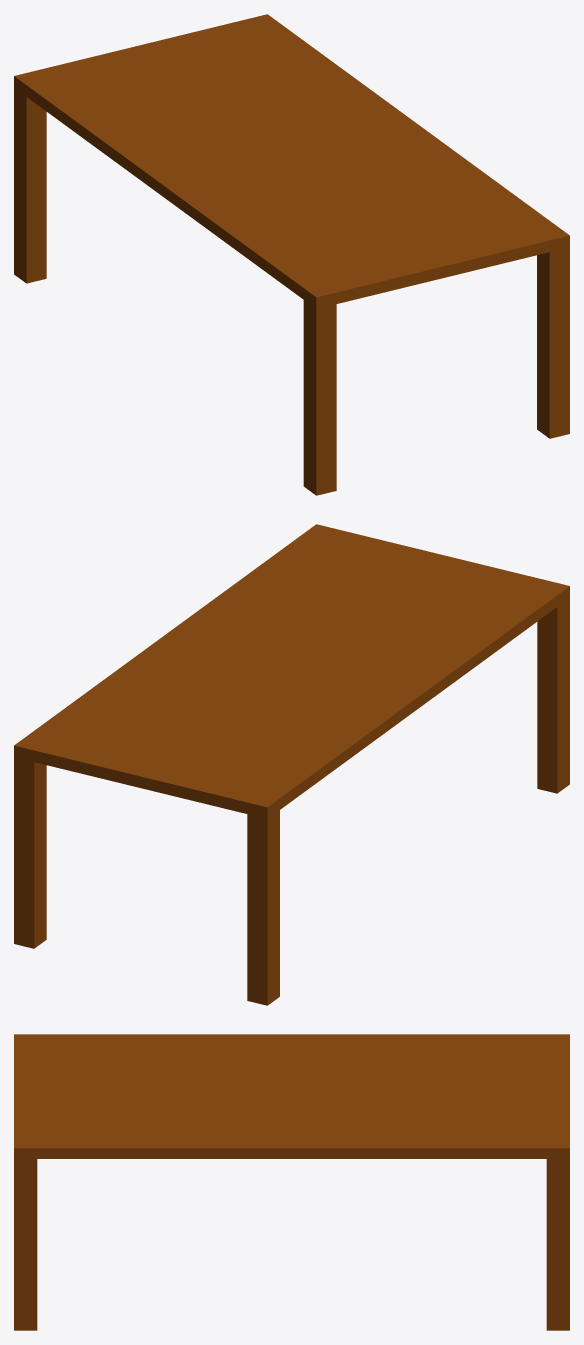
Rendered from Mesa.fbx.
The picture shows the model from 3 angles, top to bottom: view 1: azimuth 30°, elevation 25°; view 2: azimuth 150°, elevation 25°; view 3: azimuth 270°, elevation 25°; orthographic projection. The views are drawn at different scales.
Parts seen in each view (by area): view 1: Cube; view 2: Cube; view 3: Cube.
Boxes of the visible parts, bbox=[...] form: Cube: bbox=[14, 14, 569, 495]; Cube: bbox=[14, 524, 569, 1005]; Cube: bbox=[14, 1034, 569, 1330].
Size of the model in its own units: 474 by 354 by 979.
